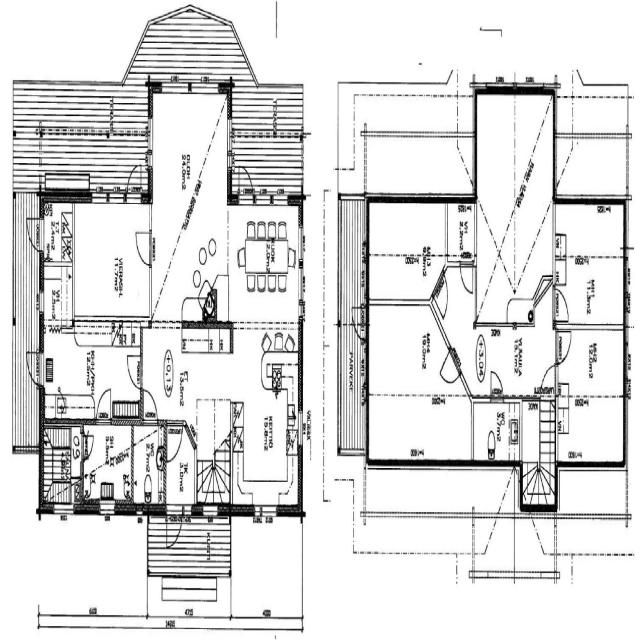door: (165, 503, 184, 556), (165, 420, 184, 464), (95, 383, 114, 422), (134, 225, 152, 266), (237, 160, 254, 203), (554, 326, 572, 364), (141, 385, 159, 422), (126, 161, 142, 202), (126, 350, 142, 390), (554, 284, 570, 324), (28, 216, 44, 249), (459, 259, 474, 294), (489, 366, 505, 398), (540, 364, 556, 396), (82, 430, 95, 460)
window: (179, 500, 195, 537), (254, 498, 280, 520), (160, 79, 188, 97), (191, 79, 218, 97), (200, 497, 220, 520), (52, 500, 76, 518), (89, 186, 109, 205), (98, 498, 116, 519), (297, 261, 305, 306), (297, 224, 305, 262), (253, 190, 273, 204), (272, 192, 289, 206), (297, 410, 304, 444), (135, 501, 146, 517)
zone: (477, 85, 555, 325), (555, 324, 625, 464), (73, 198, 152, 320), (552, 201, 626, 327), (367, 197, 447, 304), (42, 334, 138, 421), (233, 395, 299, 507), (388, 203, 478, 278), (234, 201, 301, 289), (477, 320, 554, 396), (82, 421, 133, 500), (196, 402, 231, 502), (472, 398, 520, 460), (132, 420, 164, 505), (42, 198, 73, 260), (446, 198, 475, 262)
